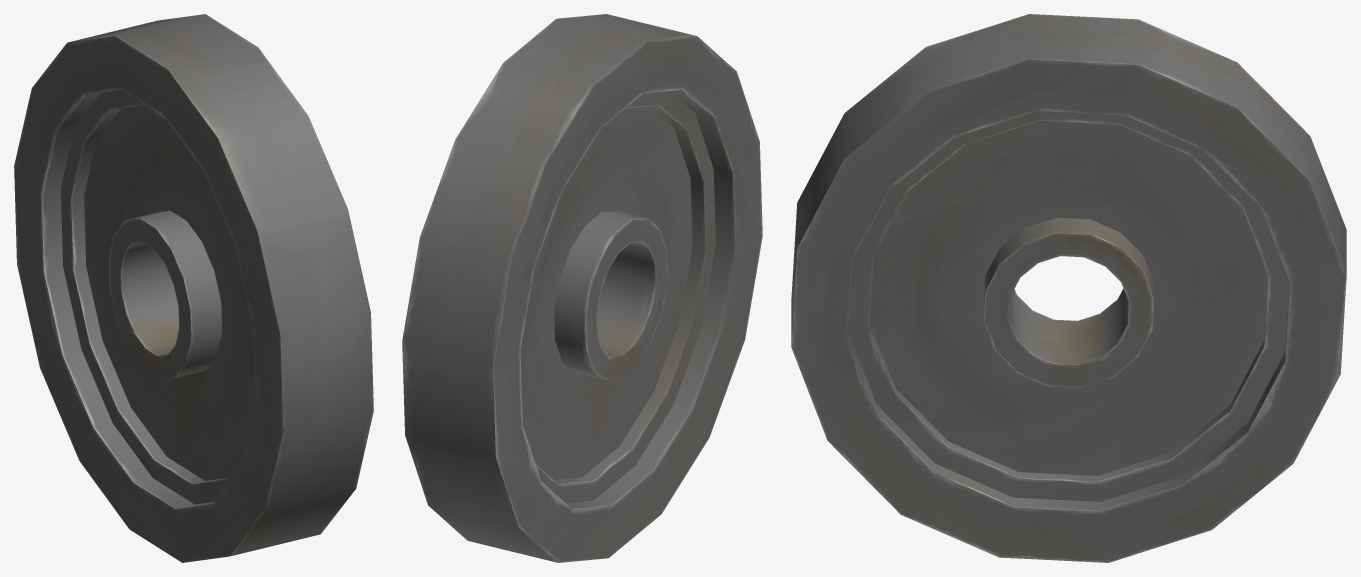
The model's file is nut.fbx.
3 views of the same model, side by side, from view 1: azimuth 30°, elevation 25°; view 2: azimuth 150°, elevation 25°; view 3: azimuth 270°, elevation 25° (orthographic). The views are drawn at different scales.
Parts seen in each view (by area): view 1: nut; view 2: nut; view 3: nut.
Boxes of the visible parts, x1,y1,x2,y2 form: nut: (14, 14, 373, 562); nut: (402, 14, 762, 562); nut: (791, 14, 1346, 562).
Bounding box in the file's own units: 27.1 × 139 × 139.
